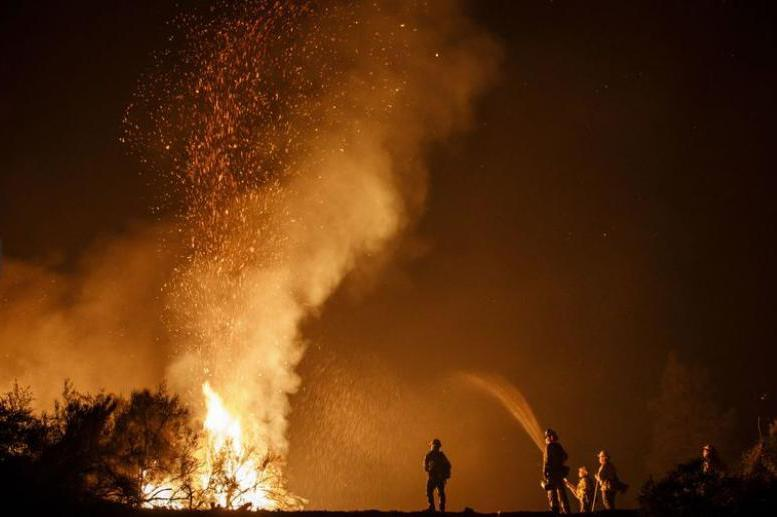Fire: (141, 372, 283, 509)
